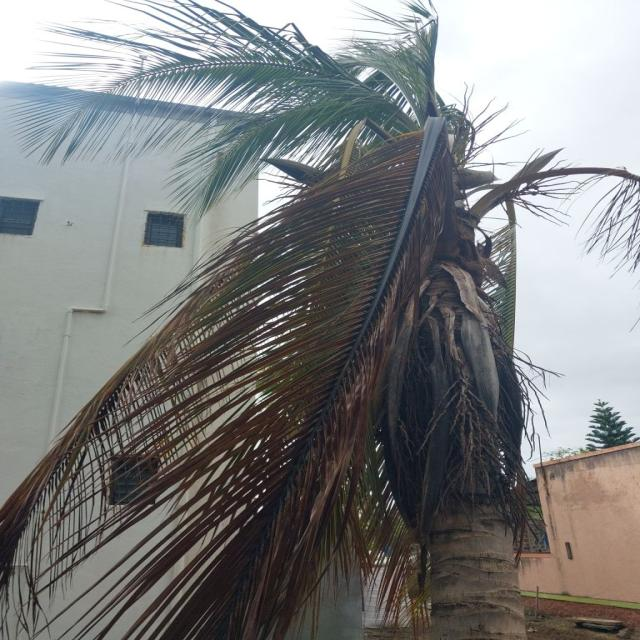bud root dropping: (3, 0, 638, 640)
